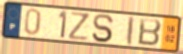0: (23, 7, 42, 37)
1: (58, 10, 68, 40)
B: (137, 17, 163, 48)
I: (127, 15, 135, 47)
S: (91, 13, 115, 44)
Z: (68, 11, 91, 43)
